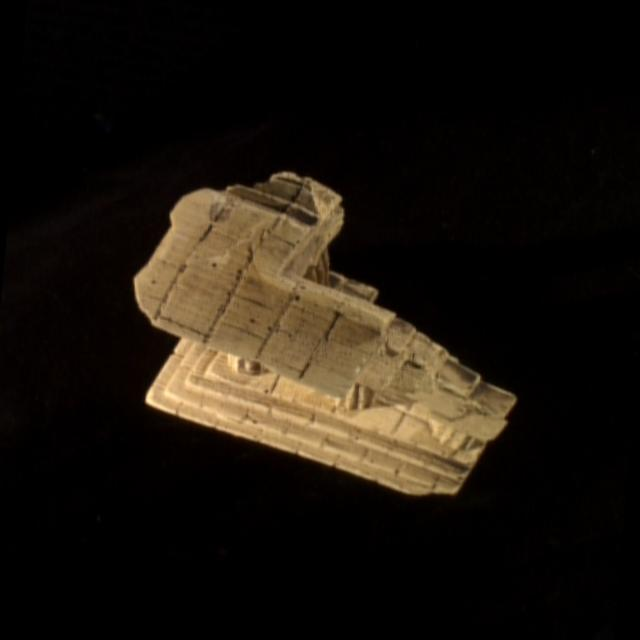Instance-Segmentation: (135, 171, 515, 492)
